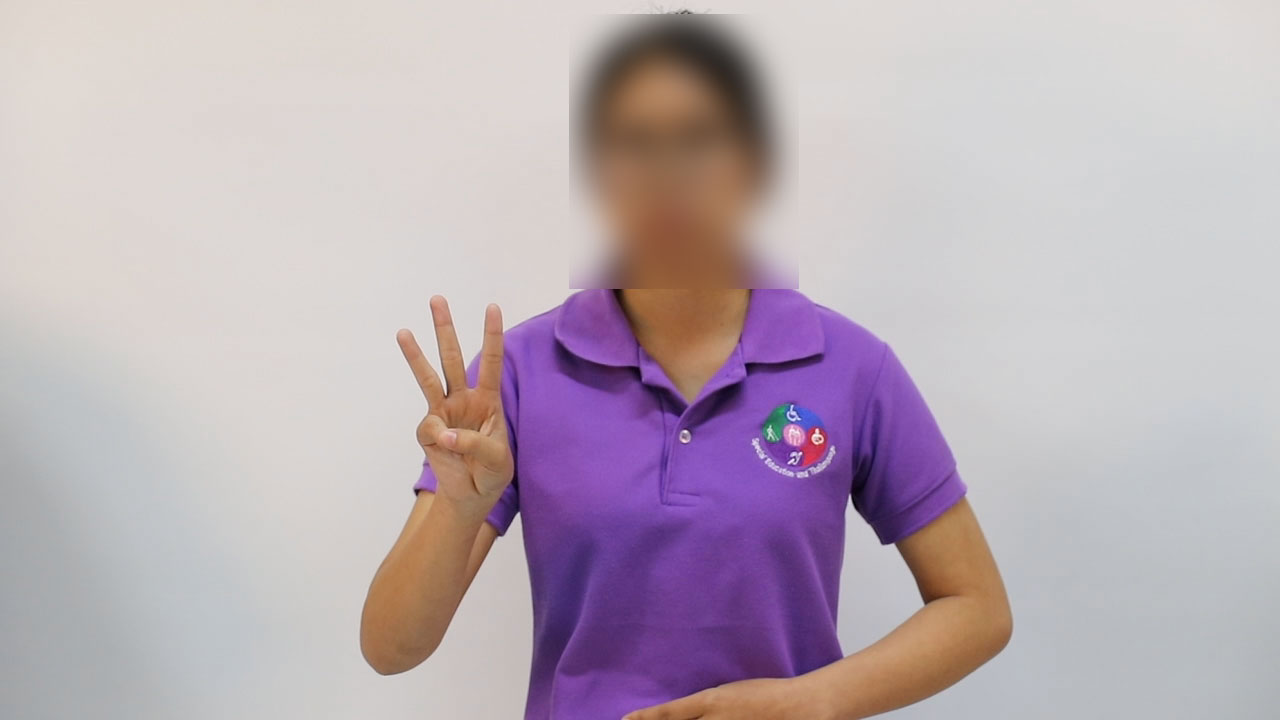wor: (385, 285, 517, 529)
